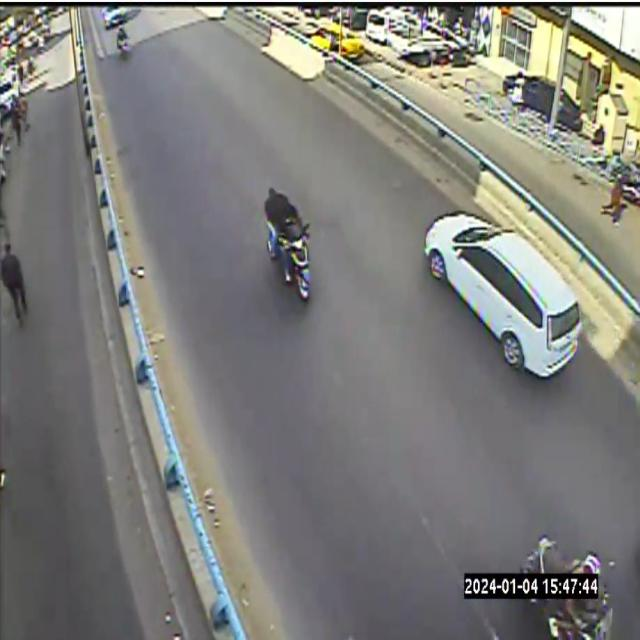car: (423, 205, 592, 381), (424, 212, 581, 376)
